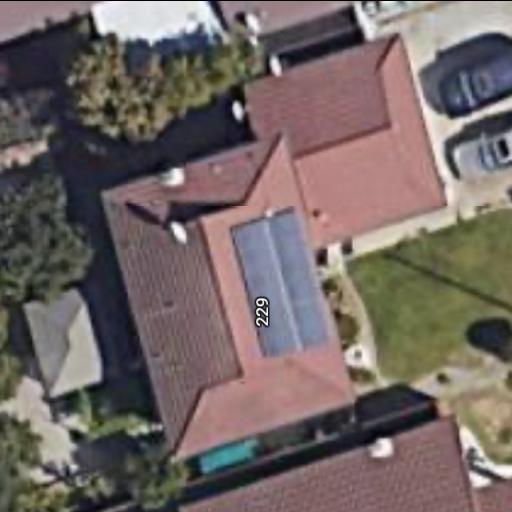Solar-Slope-Roof: (100, 33, 444, 457)
